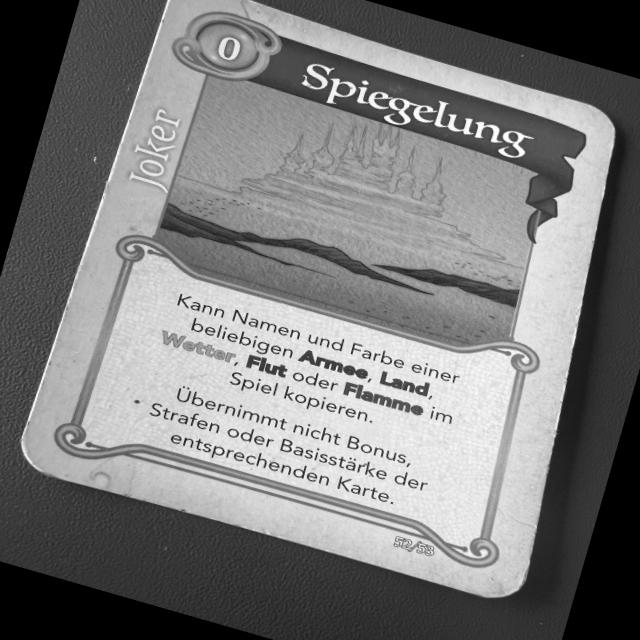Mirage: (9, 0, 615, 611)
